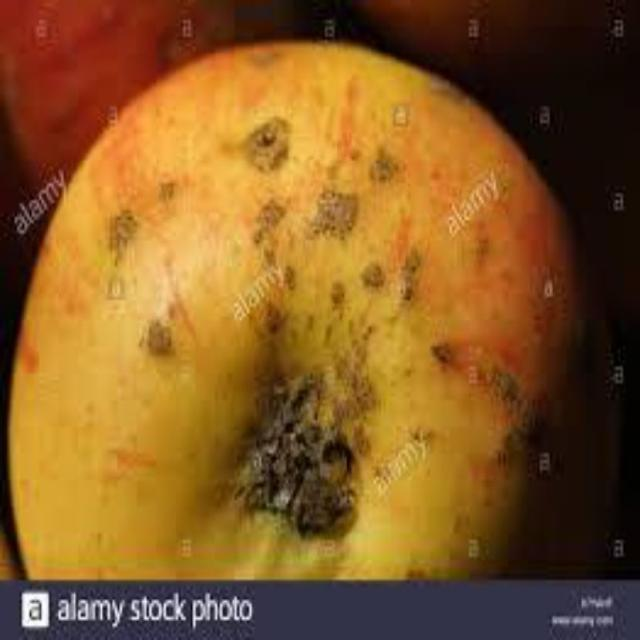Rotten Apple: (14, 6, 587, 558)
